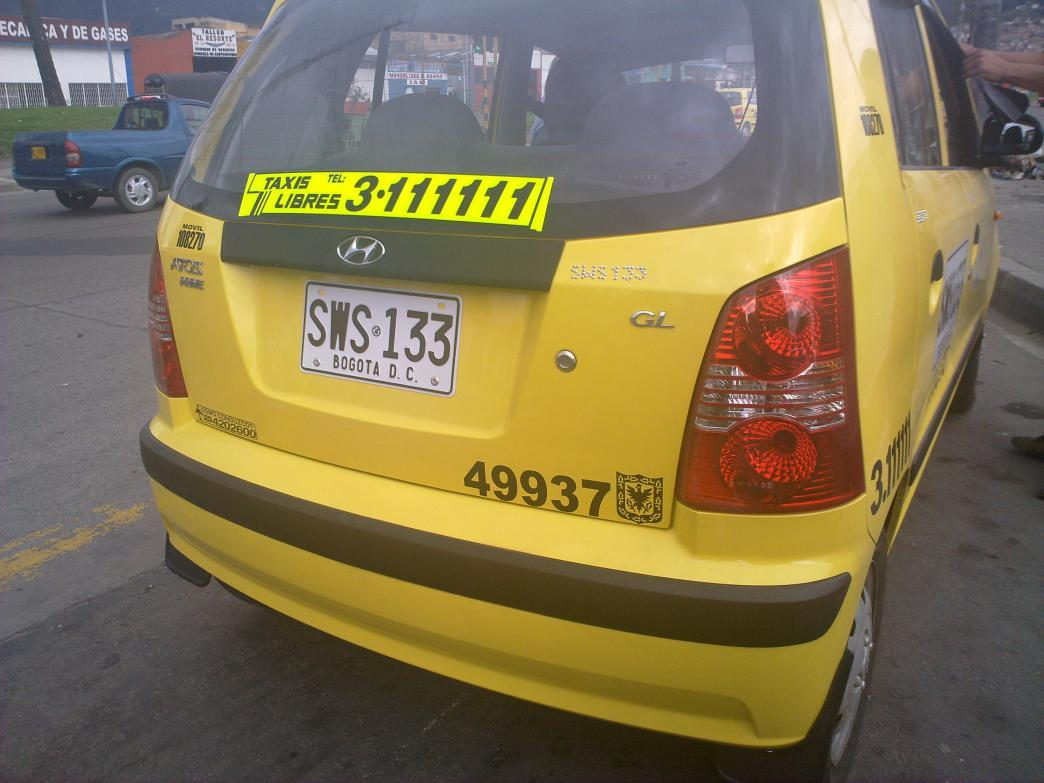placas: (297, 280, 464, 400)
